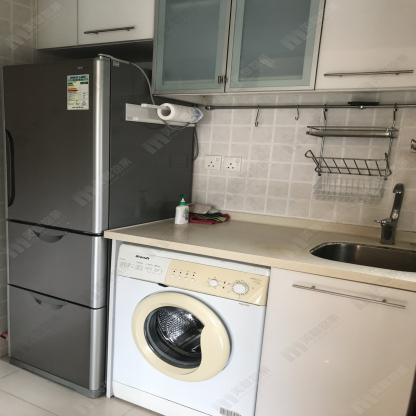Cupboard: (153, 0, 416, 92), (254, 271, 416, 414), (151, 0, 324, 95), (314, 0, 416, 91)
Faucet: (376, 180, 412, 245)
Fridge: (2, 57, 114, 397), (5, 57, 104, 396)
Sink: (286, 236, 416, 282), (309, 240, 416, 274)
Washing Machine: (106, 242, 272, 416)
